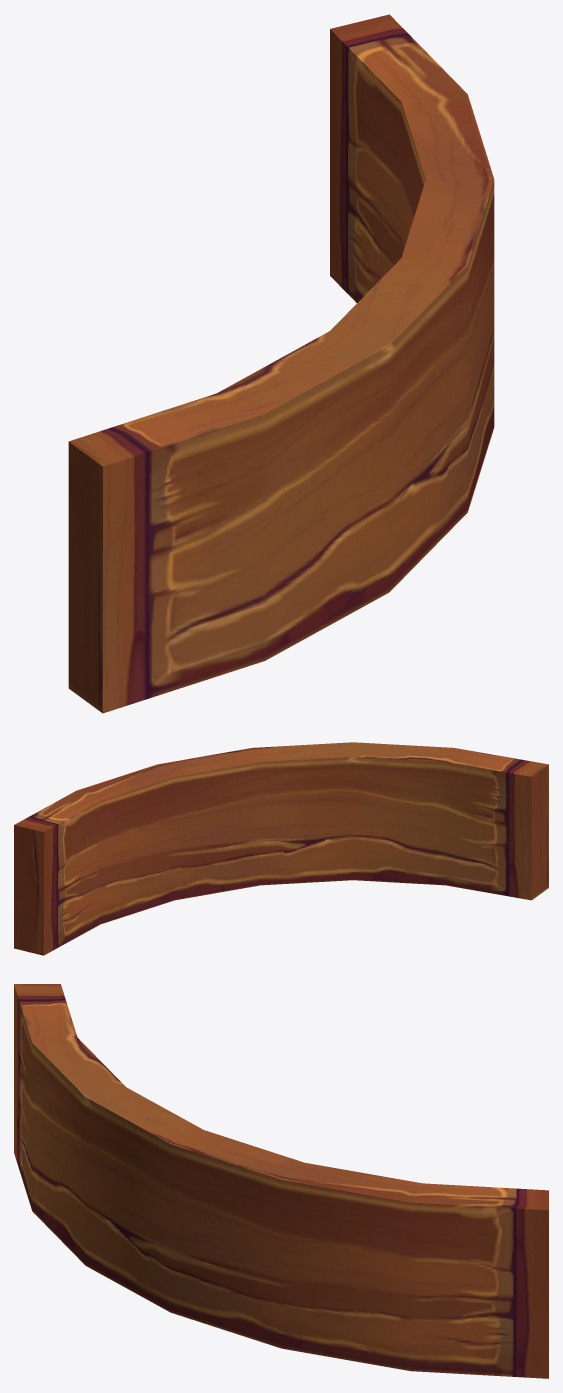
File: arched_fence_wood_03.fbx
The picture shows the model from 3 angles, top to bottom: view 1: azimuth 30°, elevation 25°; view 2: azimuth 150°, elevation 25°; view 3: azimuth 270°, elevation 25°; orthographic projection. The views are drawn at different scales.
Visible parts, largest first — view 1: arched_fence_wood_03; view 2: arched_fence_wood_03; view 3: arched_fence_wood_03.
Boxes of the visible parts, x1=… form: arched_fence_wood_03: x1=68, y1=14, x2=494, y2=713; arched_fence_wood_03: x1=14, y1=742, x2=548, y2=955; arched_fence_wood_03: x1=14, y1=984, x2=548, y2=1378.
Bounding box in the file's own units: 115 × 40 × 115.
